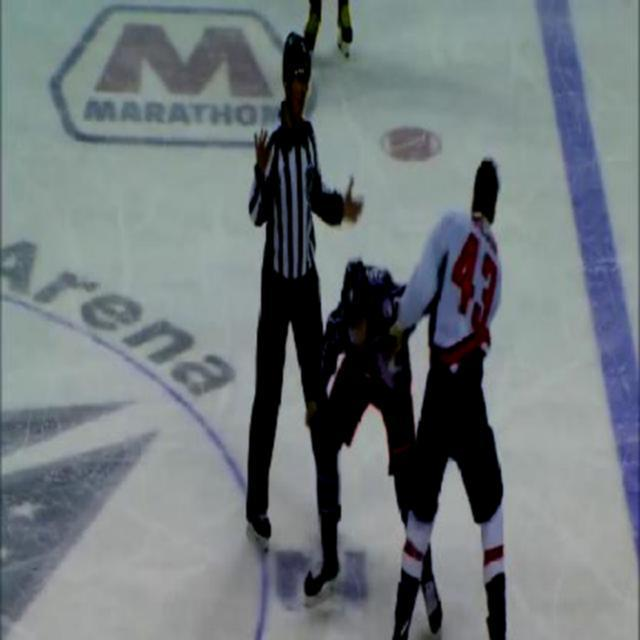fight: (308, 158, 507, 638)
